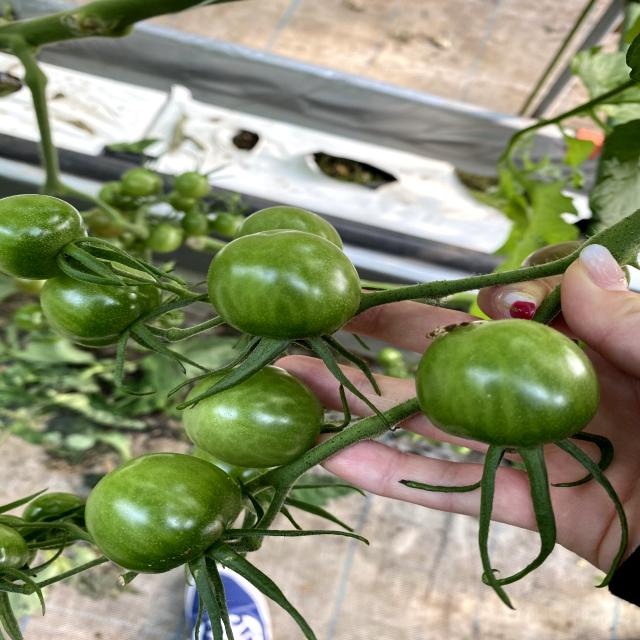ripe0: (417, 320, 601, 448), (83, 454, 243, 575), (206, 230, 362, 340), (180, 366, 324, 466), (0, 193, 89, 280)
